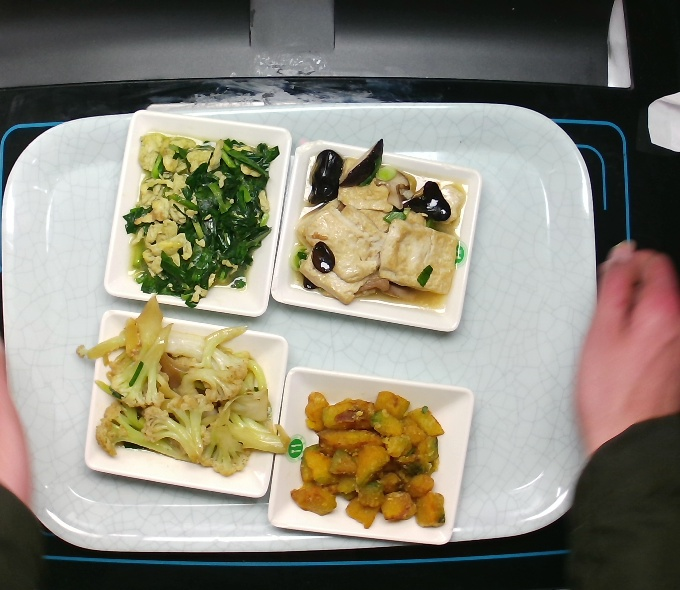wcq-DanHuangNanGua: (287, 384, 450, 538)
wcq-JiaChangDouFu: (277, 139, 472, 313)
wcq-JiuCaiJiDan: (124, 124, 285, 311)
wcq-QiuCai: (81, 298, 296, 486)
